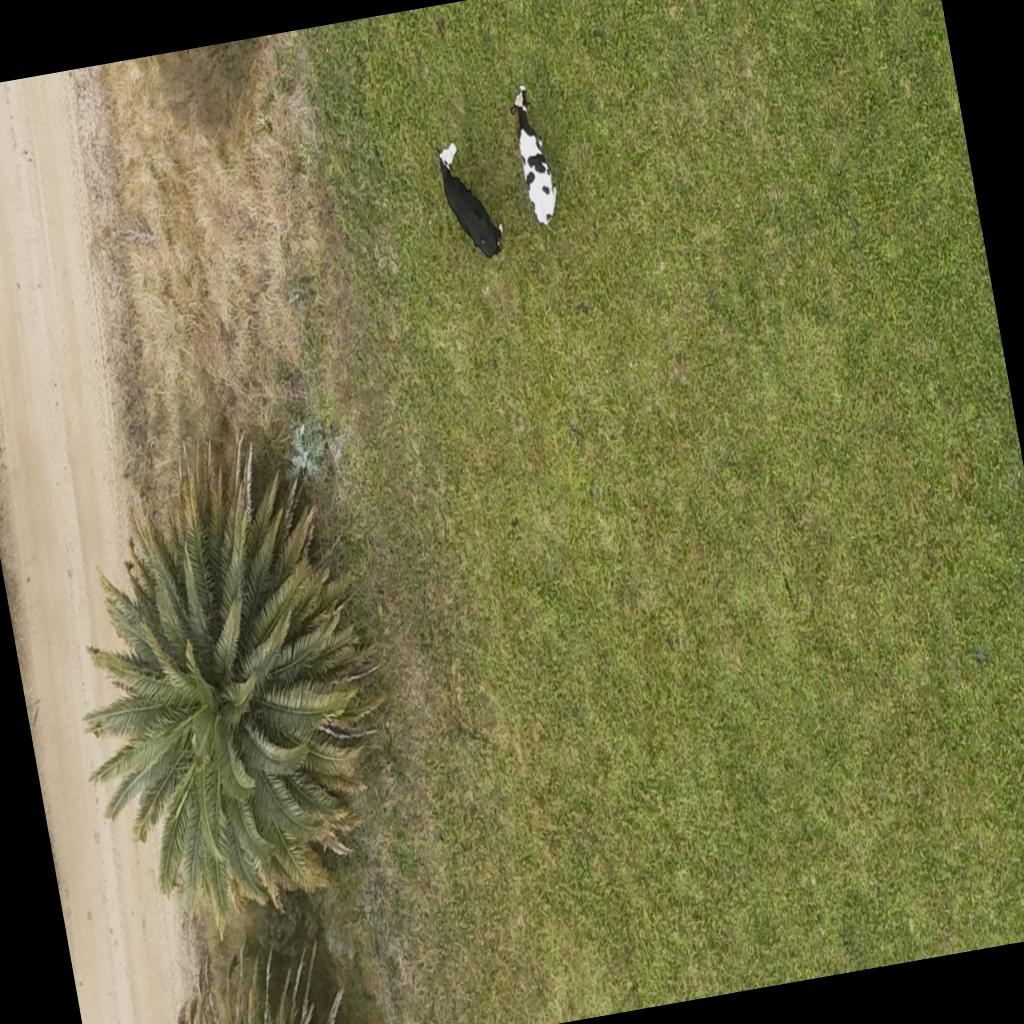cow: (433, 131, 507, 269), (506, 81, 562, 231)
